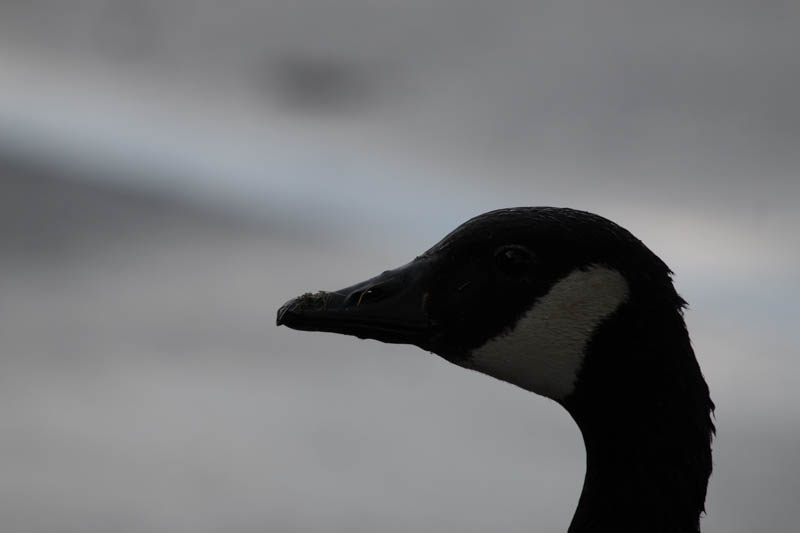goose-head: (276, 208, 703, 401)
